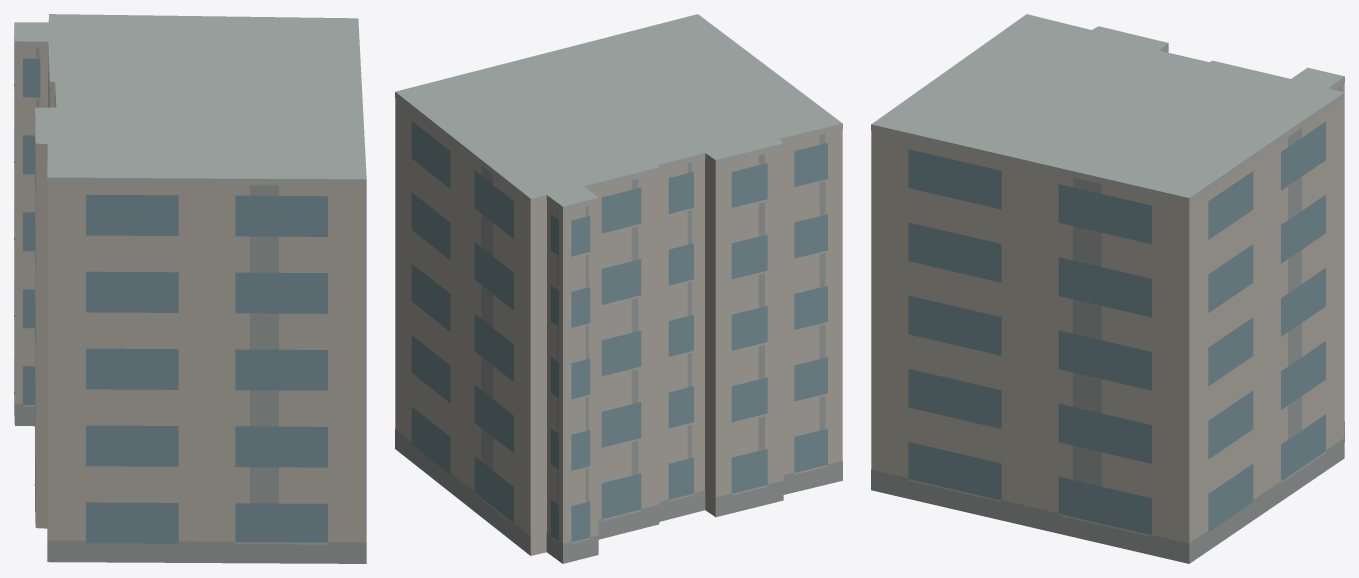
The model's file is survey-upis-32962203.glb.
3 renders of one model, left to right at view 1: azimuth 30°, elevation 25°; view 2: azimuth 150°, elevation 25°; view 3: azimuth 270°, elevation 25°, orthographic. The views are drawn at different scales.
Parts seen in each view (by area): view 1: survey-upis-32962203.tmp; view 2: survey-upis-32962203.tmp; view 3: survey-upis-32962203.tmp.
Boxes of the visible parts, bbox=[...] form: survey-upis-32962203.tmp: bbox=[14, 14, 366, 563]; survey-upis-32962203.tmp: bbox=[395, 14, 842, 563]; survey-upis-32962203.tmp: bbox=[871, 14, 1344, 563].
Bounding box in the file's own units: 15.44 × 14.3 × 16.79.
